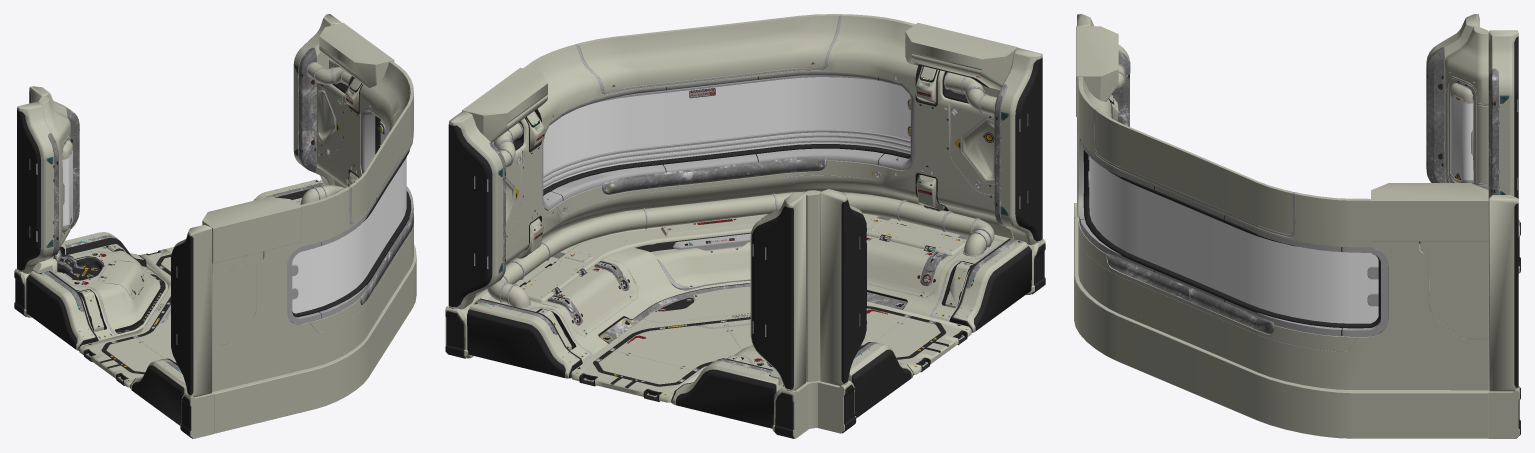
The model's file is corridor_L.glb.
3 views of the same model, side by side, from view 1: azimuth 30°, elevation 25°; view 2: azimuth 150°, elevation 25°; view 3: azimuth 270°, elevation 25° (orthographic). The views are drawn at different scales.
Parts seen in each view (by area): view 1: Cube.019_Piece.002_Piece.004_Piece.004; view 2: Cube.019_Piece.002_Piece.004_Piece.004; view 3: Cube.019_Piece.002_Piece.004_Piece.004.
Boxes of the visible parts, x1,y1,x2,y2 form: Cube.019_Piece.002_Piece.004_Piece.004: (14,14,416,438); Cube.019_Piece.002_Piece.004_Piece.004: (445,14,1045,438); Cube.019_Piece.002_Piece.004_Piece.004: (1074,14,1520,438).
Size of the model in its own units: 4.86 by 2.86 by 4.86.
Materials: 11 (1 with a texture image).
